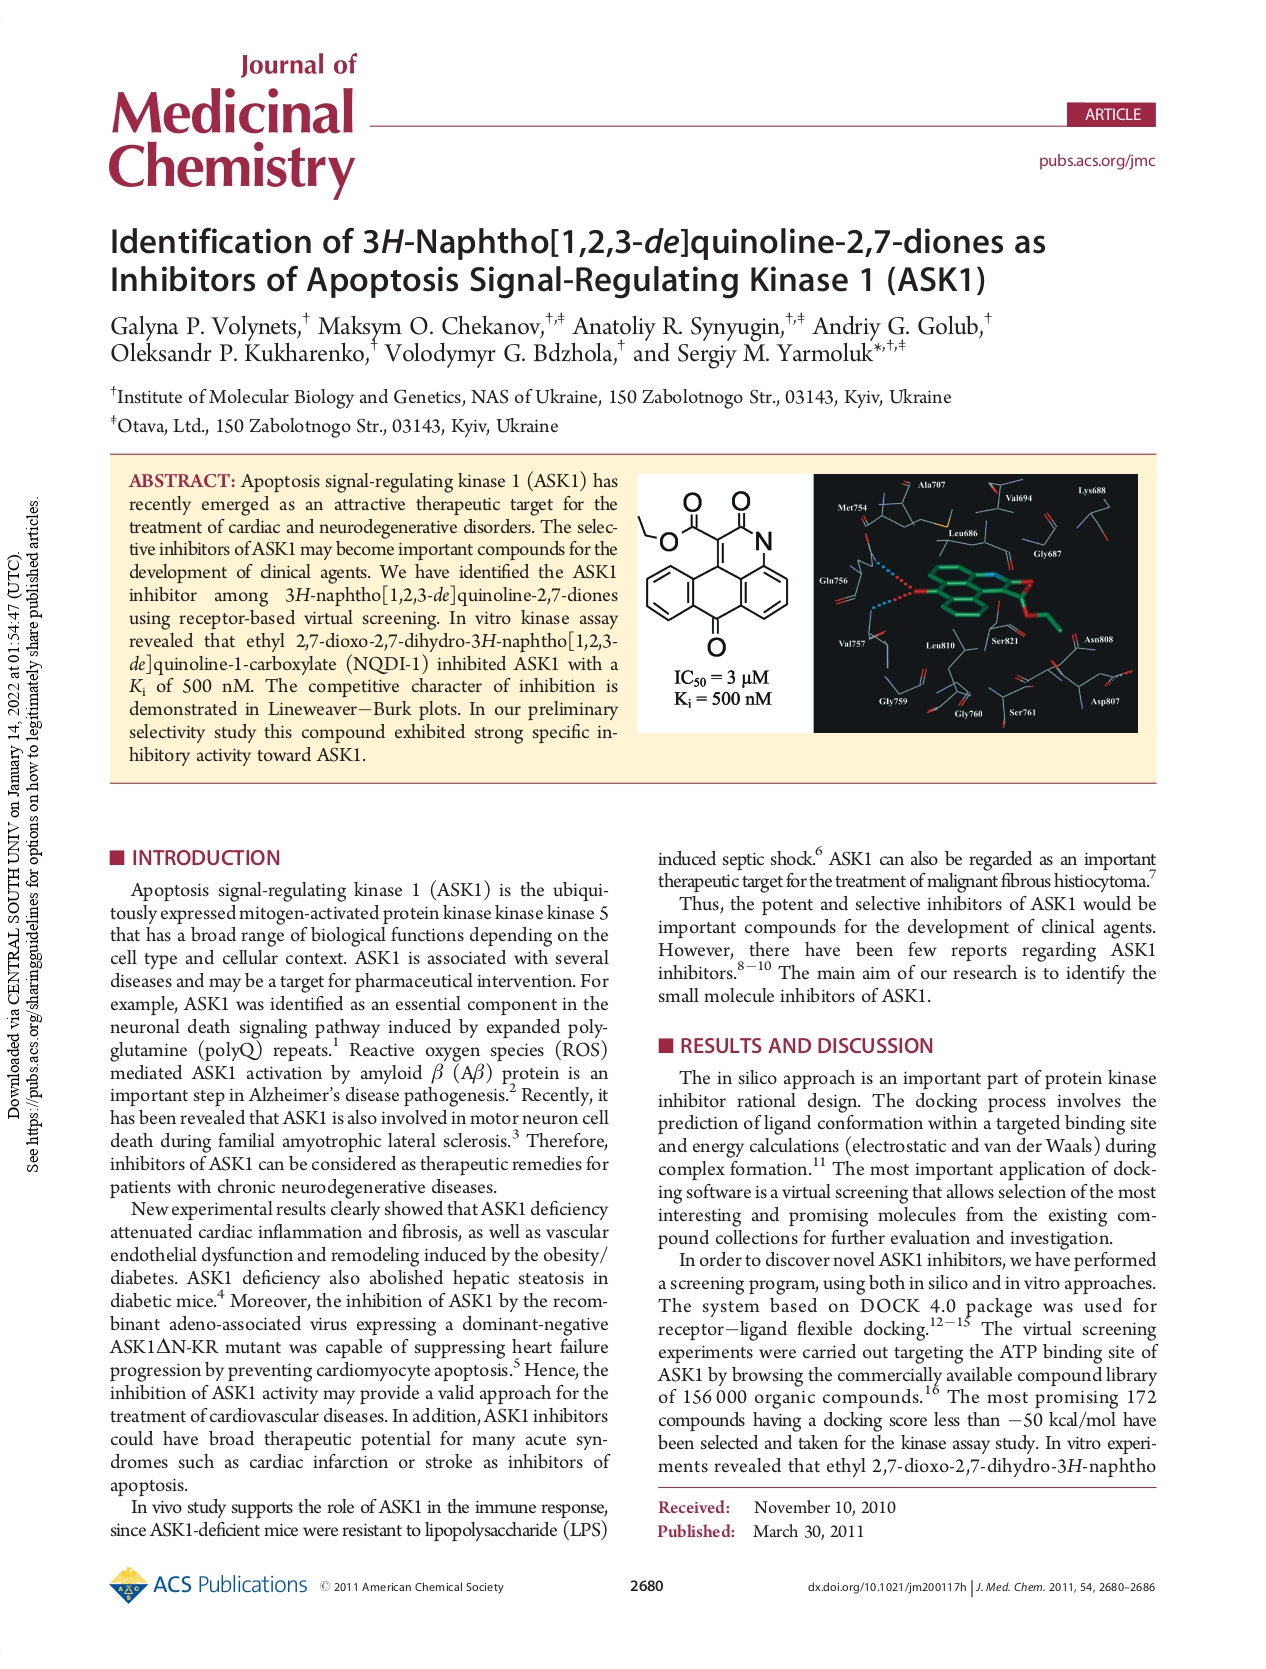exist_molecular: (636, 485, 795, 664)
